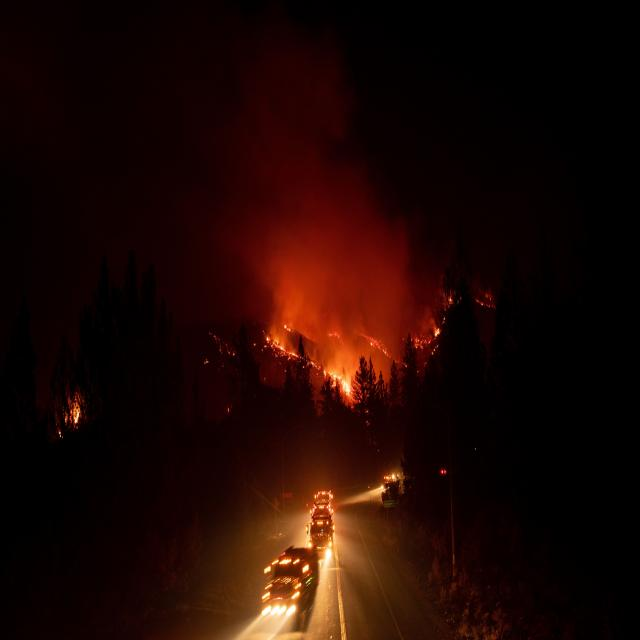Fire: (320, 359, 369, 410)
